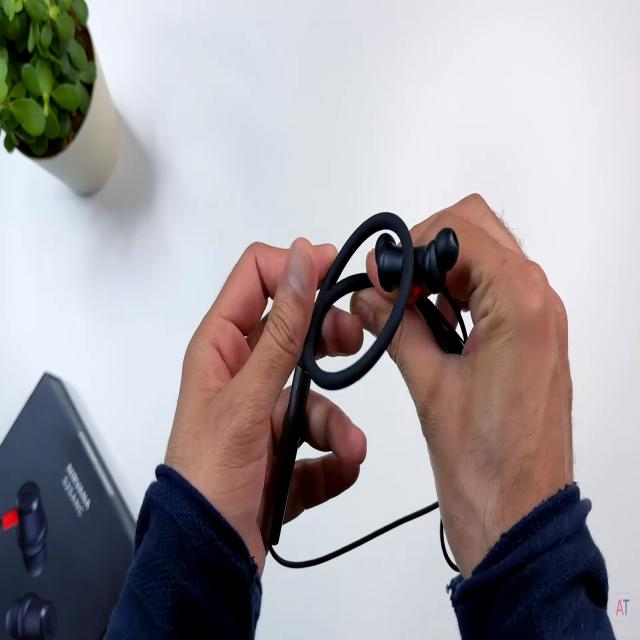Neckband: (260, 208, 469, 571)
